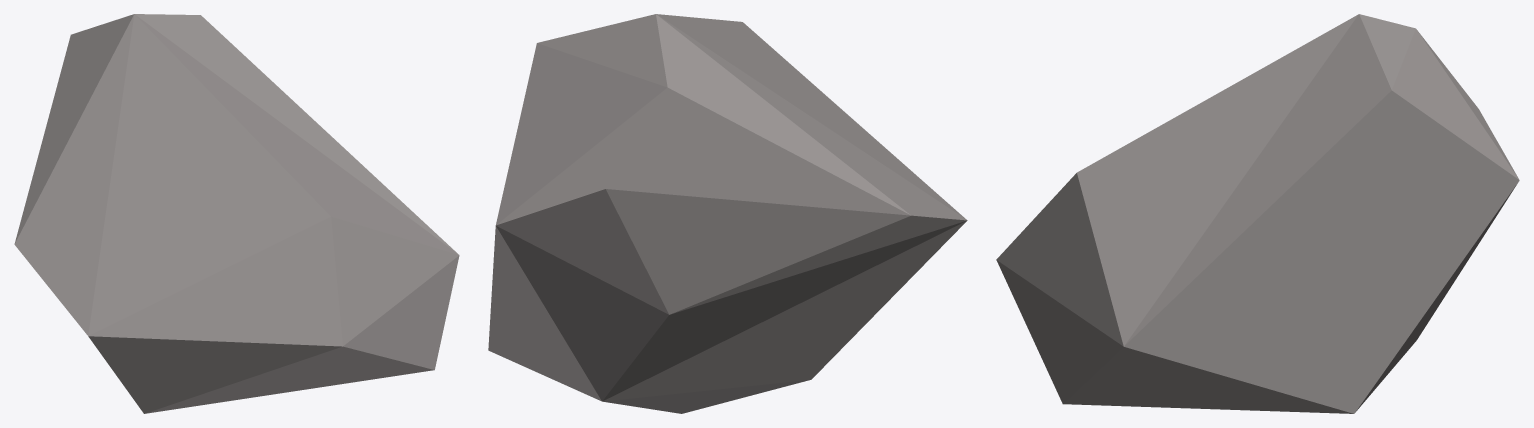
The model's file is SM_Rock_M_02.fbx.
3 renders of one model, left to right at view 1: azimuth 30°, elevation 25°; view 2: azimuth 150°, elevation 25°; view 3: azimuth 270°, elevation 25°, orthographic. The views are drawn at different scales.
Parts seen in each view (by area): view 1: SM_Rock_M_02; view 2: SM_Rock_M_02; view 3: SM_Rock_M_02.
Part boxes in pixels (x1,y1,x2,y2): SM_Rock_M_02: [14, 14, 459, 413]; SM_Rock_M_02: [488, 14, 967, 413]; SM_Rock_M_02: [996, 14, 1519, 413].
Bounding box in the file's own units: 218 × 193 × 249.
